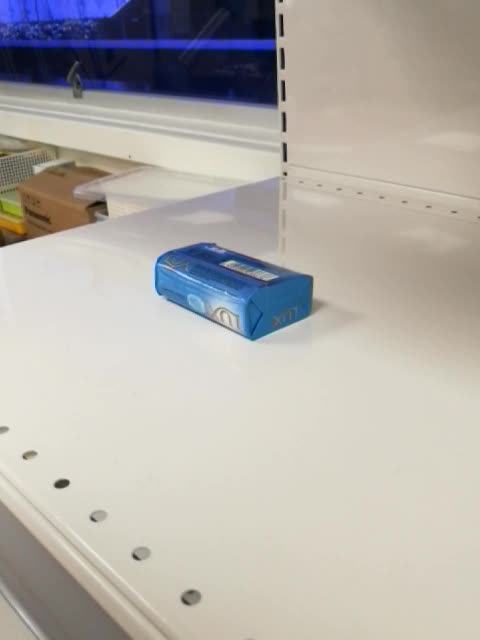soap: (152, 241, 316, 344)
